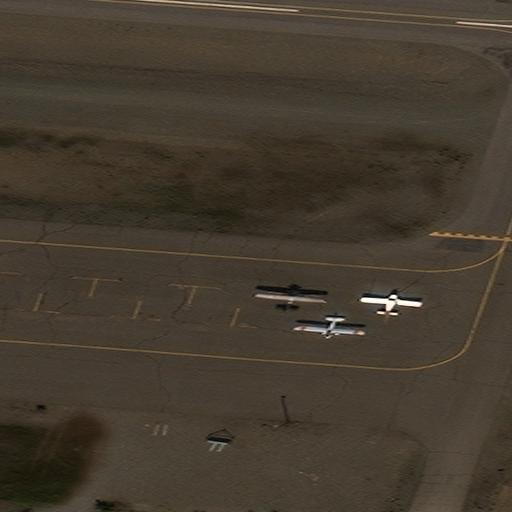Small Civil Transport: (292, 316, 364, 339), (256, 287, 324, 311), (360, 294, 423, 317)
